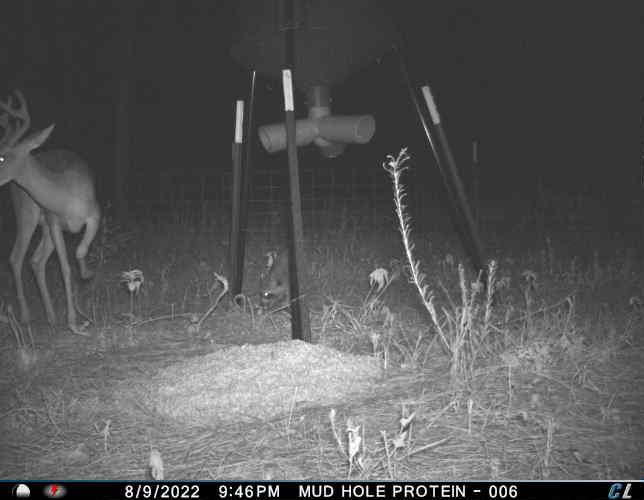Deer: (0, 86, 109, 348)
Raccoon: (256, 242, 311, 314)
